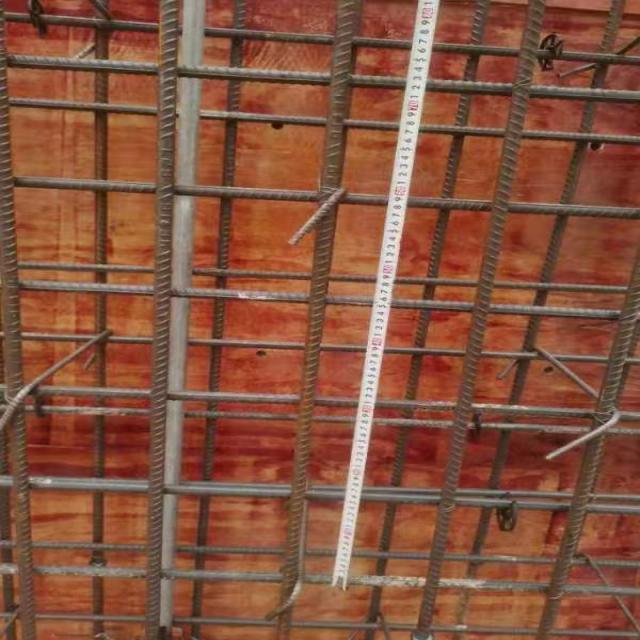ribbed bar: (446, 0, 627, 638), (411, 0, 551, 638), (357, 0, 491, 638), (271, 0, 361, 638), (534, 248, 638, 639), (186, 0, 249, 638), (11, 6, 634, 68), (12, 49, 635, 108), (13, 173, 638, 222), (12, 95, 634, 144), (21, 274, 623, 324), (139, 0, 182, 638), (0, 474, 638, 517), (2, 380, 635, 422), (21, 256, 623, 298), (0, 0, 37, 637), (0, 561, 638, 597), (0, 540, 638, 570), (91, 30, 111, 639)
